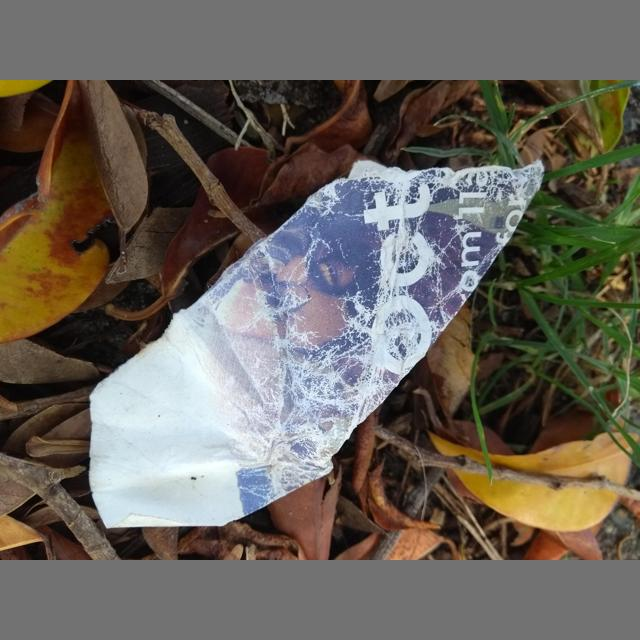litter: (89, 160, 544, 529)
